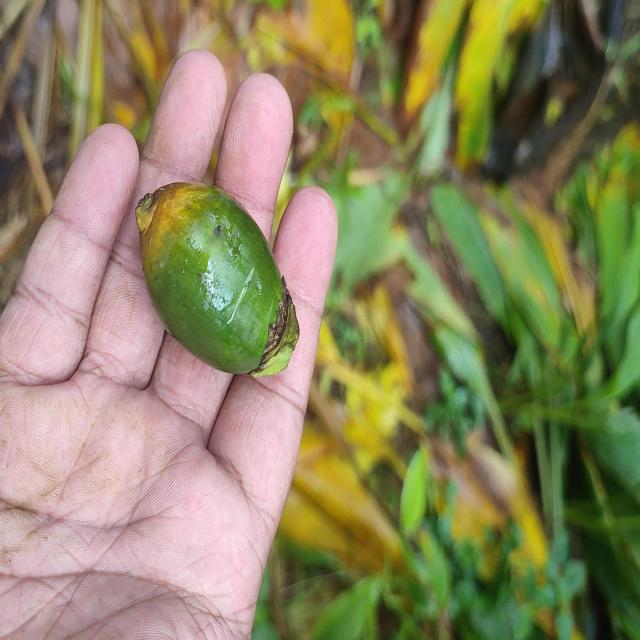good: (134, 183, 300, 378)
